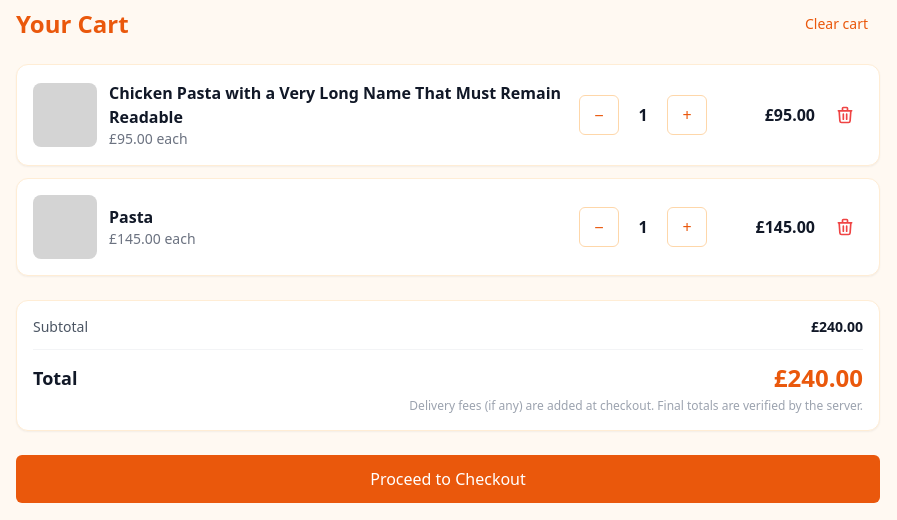
Scenario: shows complete item names and provides quantity, totals and removal controls
Click the 1st button "+".
click(687, 115)  # box top-left (667, 95), bottom-right (707, 135)
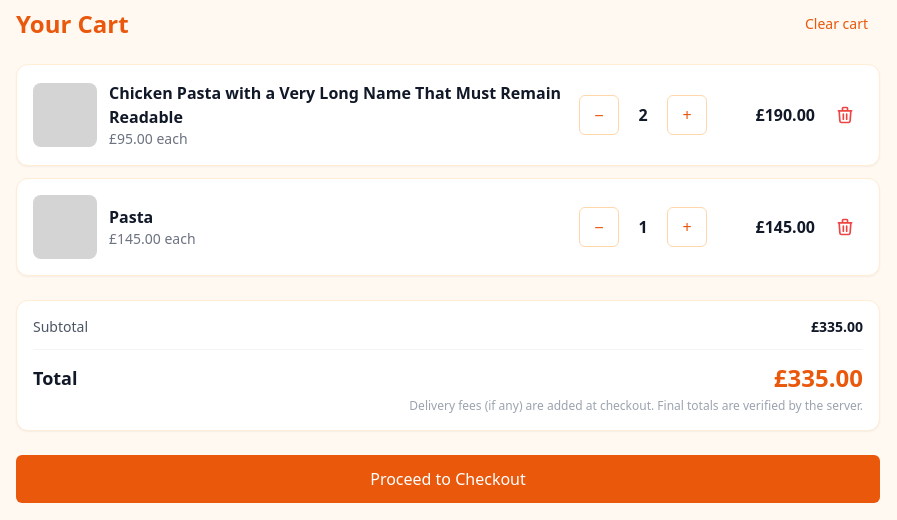
Expected: the text "£335.00" is shown 2 times, top-left (811, 317), bottom-right (863, 337); top-left (774, 362), bottom-right (863, 394)
Result: the text "£190.00" is shown at top-left (756, 104), bottom-right (815, 126)
Click the button "−" in the row of "£190.00".
click(599, 115)  # box top-left (579, 95), bottom-right (619, 135)
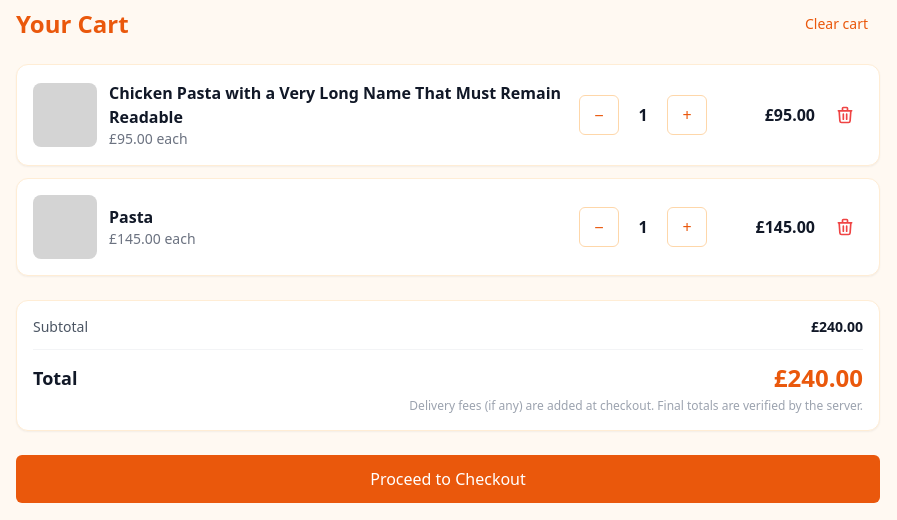
Click the button named "Remove Chicken Pasta with a Very Long Name That Must Remain".
click(845, 115)  # box top-left (827, 97), bottom-right (863, 133)
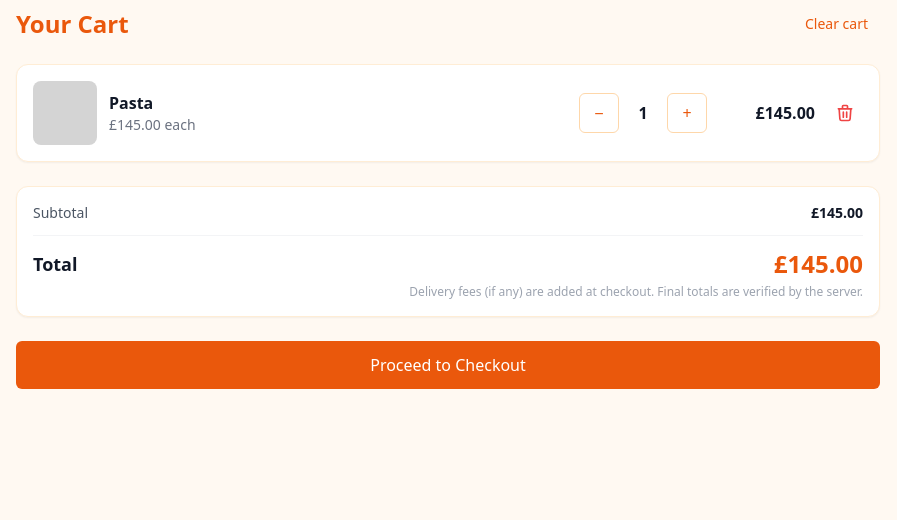
Result: the text "Chicken Pasta with a Very Long Name That Must Remain Readable" is gone
Result: the text "£145.00" is shown 3 times at top-left (756, 102), bottom-right (815, 124); top-left (811, 203), bottom-right (863, 223); top-left (774, 248), bottom-right (863, 280)
